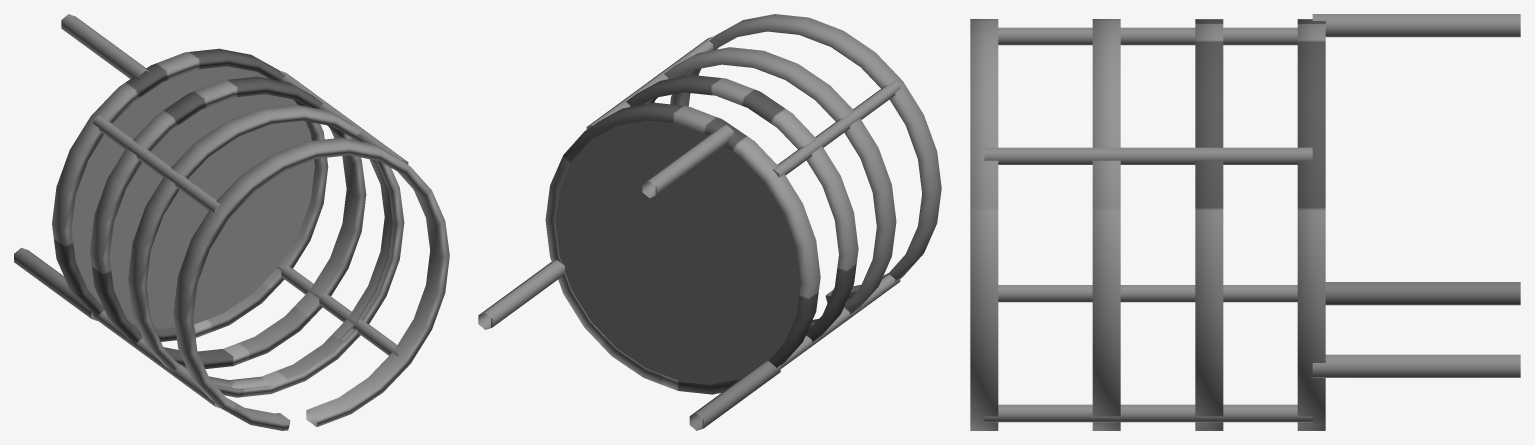
3 renders of one model, left to right at view 1: azimuth 30°, elevation 25°; view 2: azimuth 150°, elevation 25°; view 3: azimuth 270°, elevation 25°, orthographic. The views are drawn at different scales.
Size of the model in its own units: 0.5165 by 0.5165 by 0.6875.
